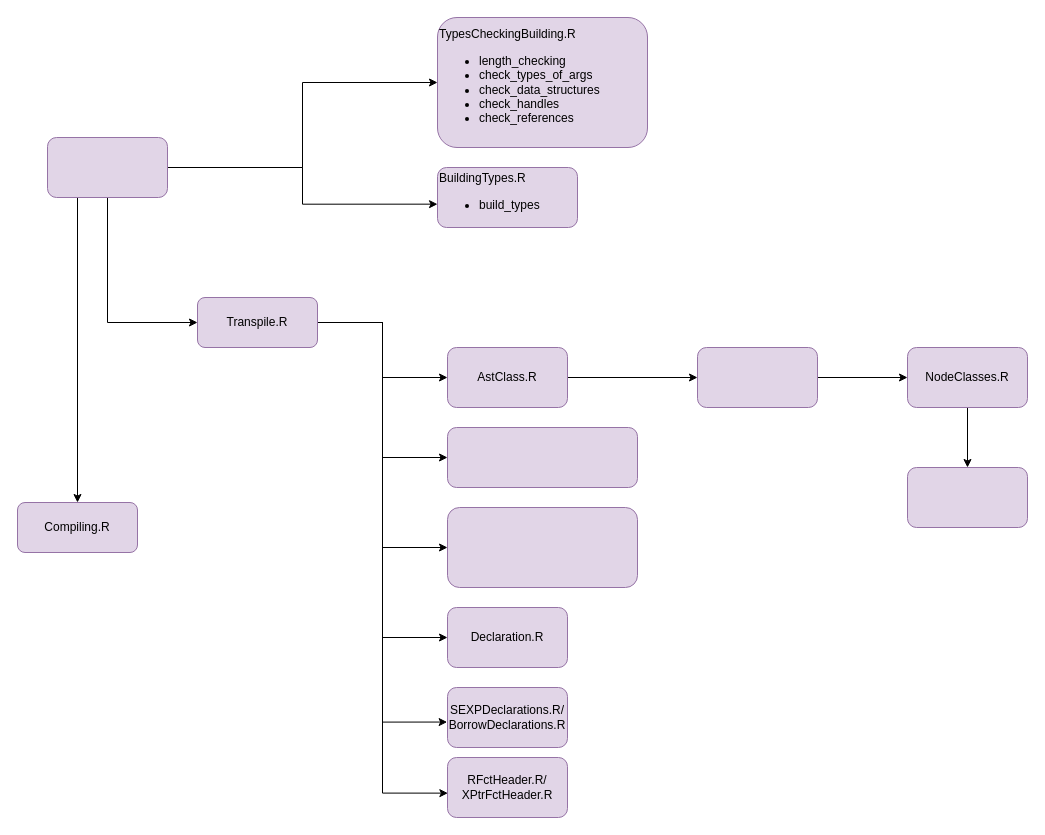
Some shapes in this 1045 by 835 pixel diagram are drawn without their labels. The shapes that lost their labels are listed below. From the top down, each one's box as (x1, y1, x2, y2) in pixels, then its label:
(46, 136, 168, 198): Translate.R
(696, 346, 818, 408): CodeLineClass.R
(446, 426, 638, 488): CheckVariableTypePairs.R
(906, 466, 1028, 528): Differentiate.R (optional)
(446, 506, 638, 588): TypeDeduction.R deduce_types deduce_return_type
